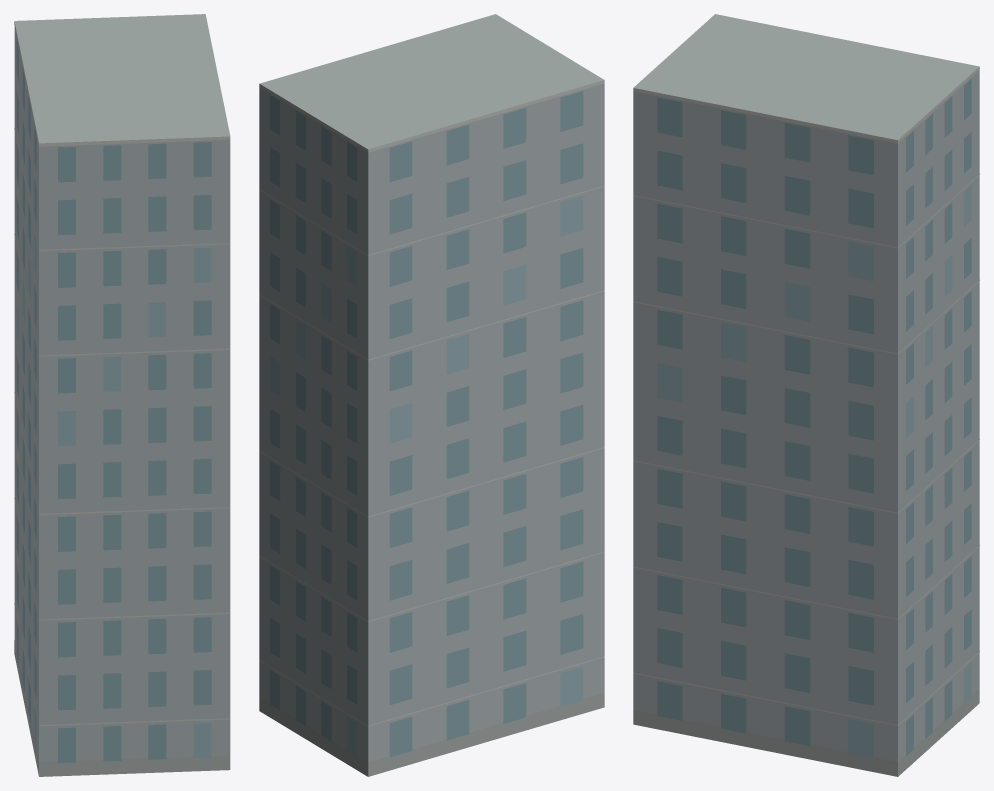
Rendered from residential-41fb0c31-526f-494b-ba0a-c4ef51eb7cff.glb.
3 renders of one model, left to right at view 1: azimuth 30°, elevation 25°; view 2: azimuth 150°, elevation 25°; view 3: azimuth 270°, elevation 25°, orthographic.
Parts seen in each view (by area): view 1: residential-41fb0c31-526f-494b-ba0a-c4ef51eb7cff.tmp; view 2: residential-41fb0c31-526f-494b-ba0a-c4ef51eb7cff.tmp; view 3: residential-41fb0c31-526f-494b-ba0a-c4ef51eb7cff.tmp.
Boxes of the visible parts, <box> form: residential-41fb0c31-526f-494b-ba0a-c4ef51eb7cff.tmp: <box>14,14,230,776</box>; residential-41fb0c31-526f-494b-ba0a-c4ef51eb7cff.tmp: <box>259,14,604,776</box>; residential-41fb0c31-526f-494b-ba0a-c4ef51eb7cff.tmp: <box>633,14,979,776</box>.
Bounding box in the file's own units: 19.59 × 46 × 22.71.
